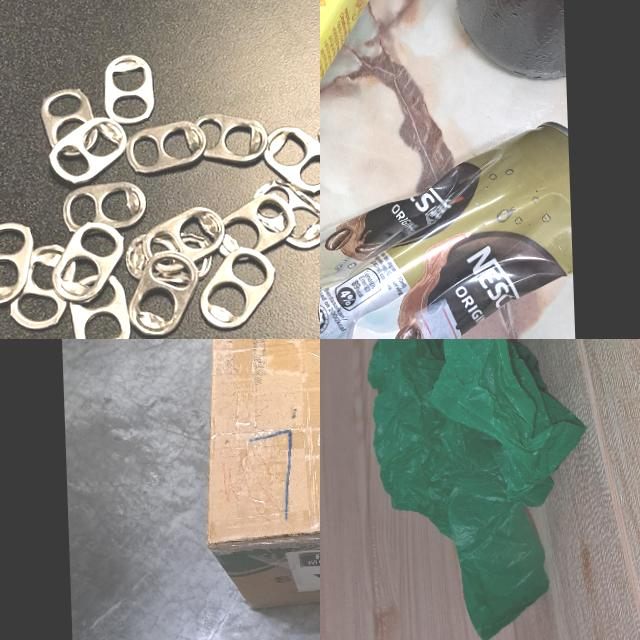aba de lata: (198, 246, 277, 332), (48, 219, 126, 302), (128, 250, 201, 338), (6, 242, 77, 331), (48, 115, 127, 184), (142, 205, 225, 269), (214, 192, 293, 258), (251, 179, 320, 253), (185, 109, 270, 166), (125, 119, 208, 174), (60, 181, 147, 233), (260, 123, 320, 194), (68, 273, 131, 339), (38, 88, 98, 156), (102, 53, 153, 124), (0, 221, 35, 306)
garrafa de vidro: (451, 0, 566, 85)
lata: (320, 120, 577, 339)
papelão: (195, 339, 320, 603)
sacola plástica: (361, 339, 595, 640)
